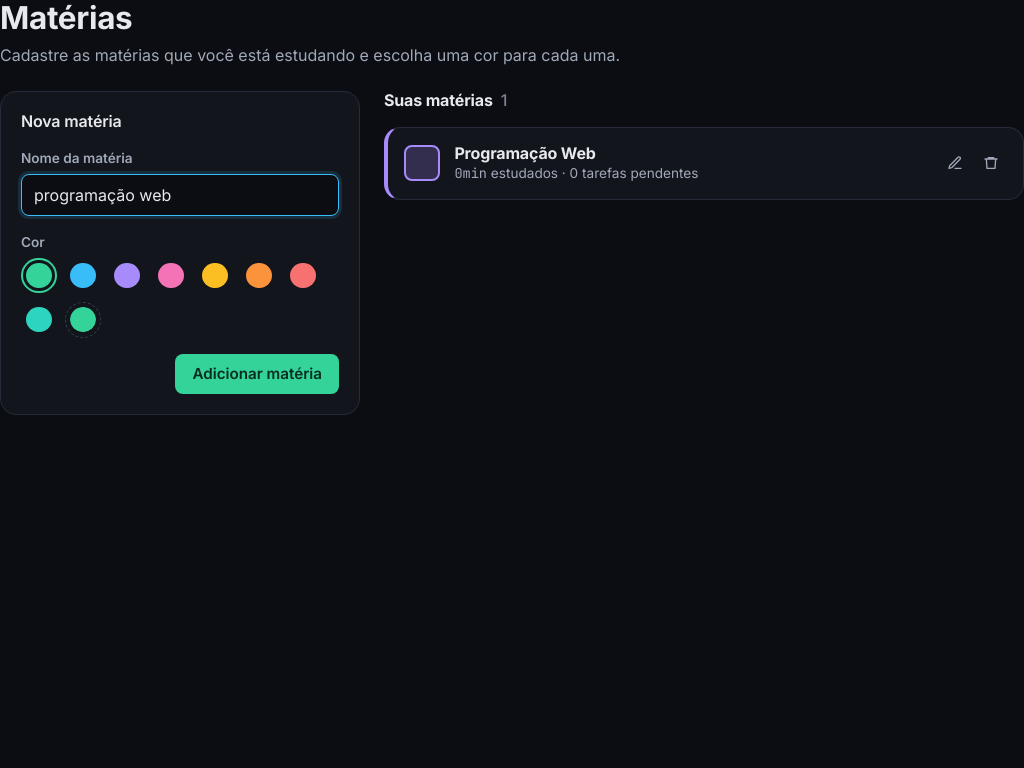
Test case: SubjectsView (CRUD de matérias) › cria, edita e exclui uma matéria salvando no localStorage
The width and height of the screenshot is (1024, 768).
Earlier steps of the test are not shown.
Click the button "Adicionar matéria" at (257, 374), box [175,354,339,394]
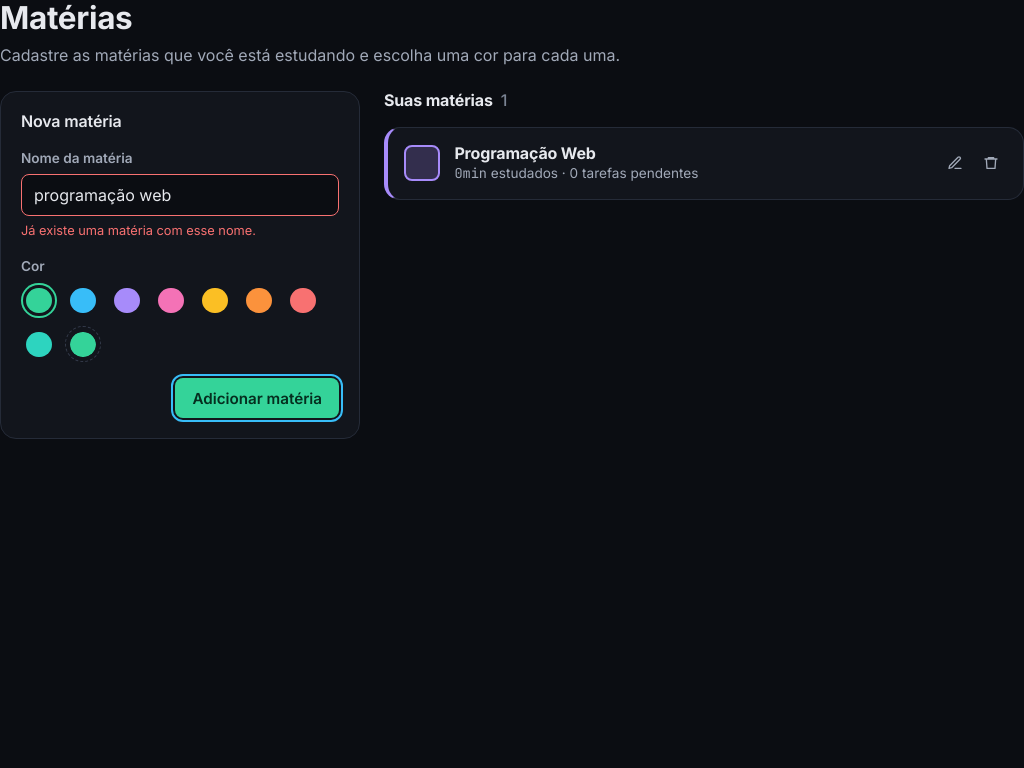
Expected: the message reads "Já existe uma matéria com esse nome.", [21,223,256,238]
Clear the field labelled "Nome da matéria" at (180, 194), box [21,174,339,216]
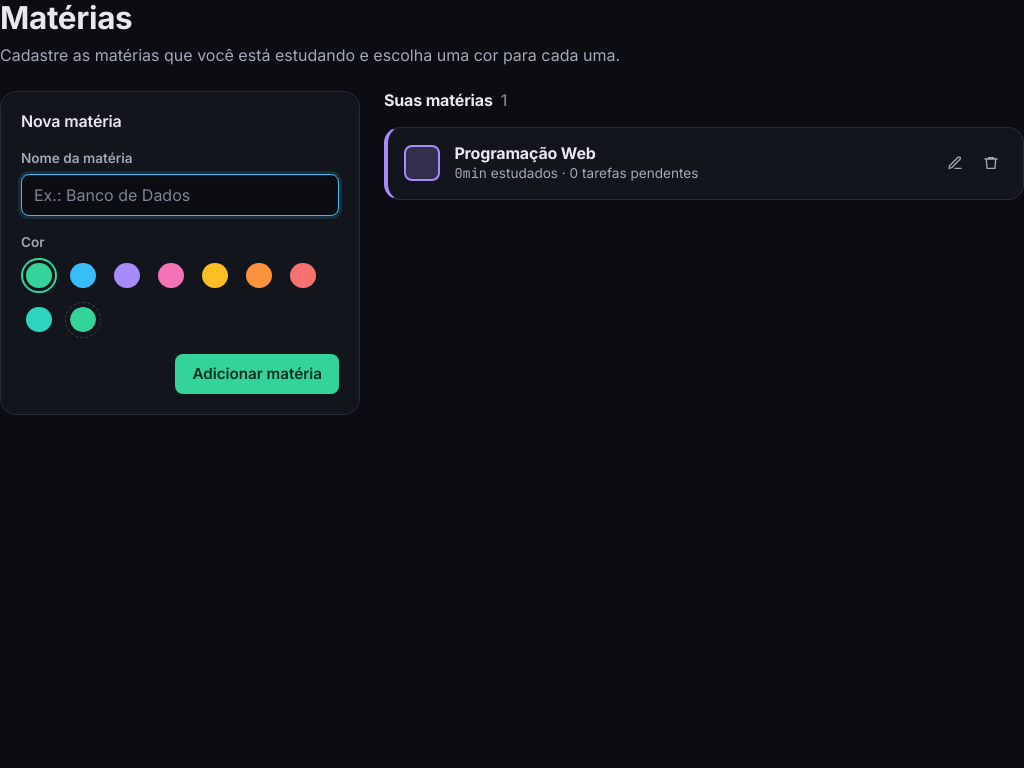
Click the button named "Editar Programação Web" at (955, 163), box [939,147,971,179]
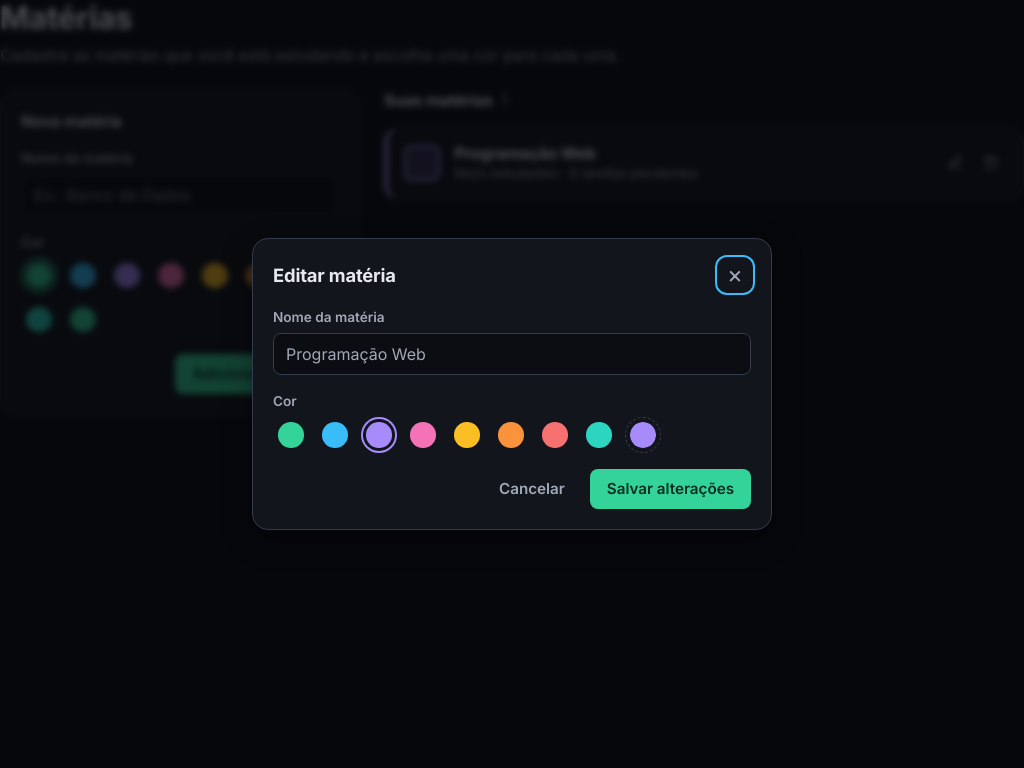
Replace the text in the field labelled "Nome da matéria" with "Front-end" at (512, 354), box [273,333,751,375]
Click the button "Salvar alterações" at (670, 489), box [590,469,751,509]
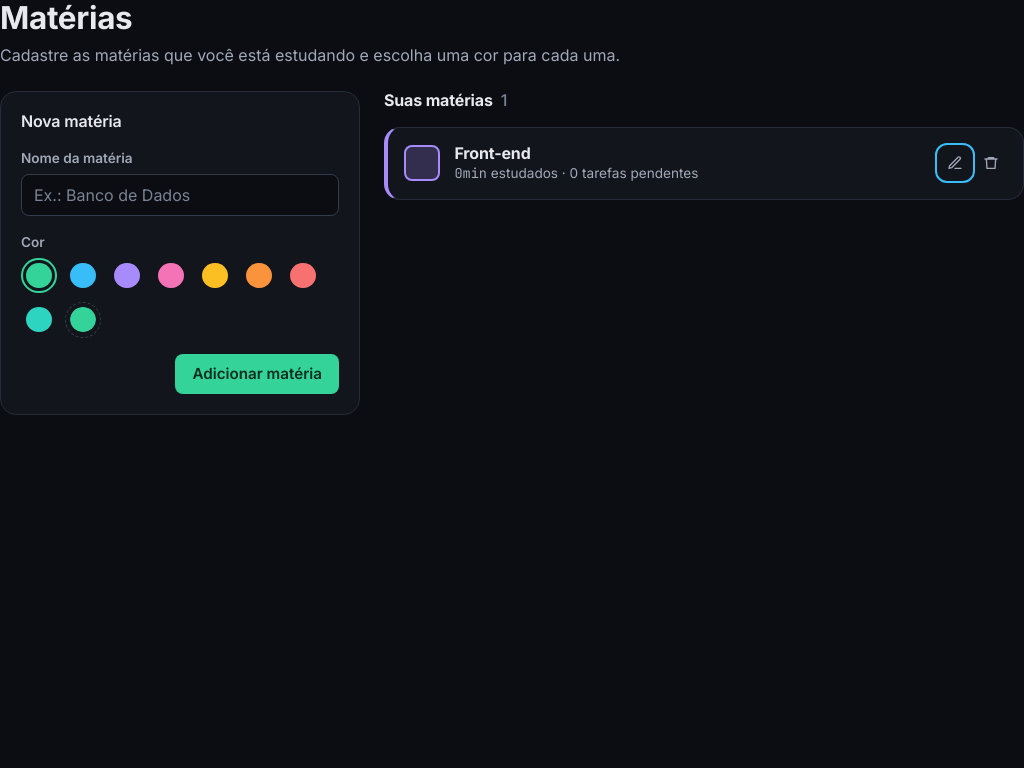
Expected: the heading "Front-end" is shown, [454,143,531,163]
Click the button named "Excluir Front-end" at (991, 163), box [975,147,1007,179]
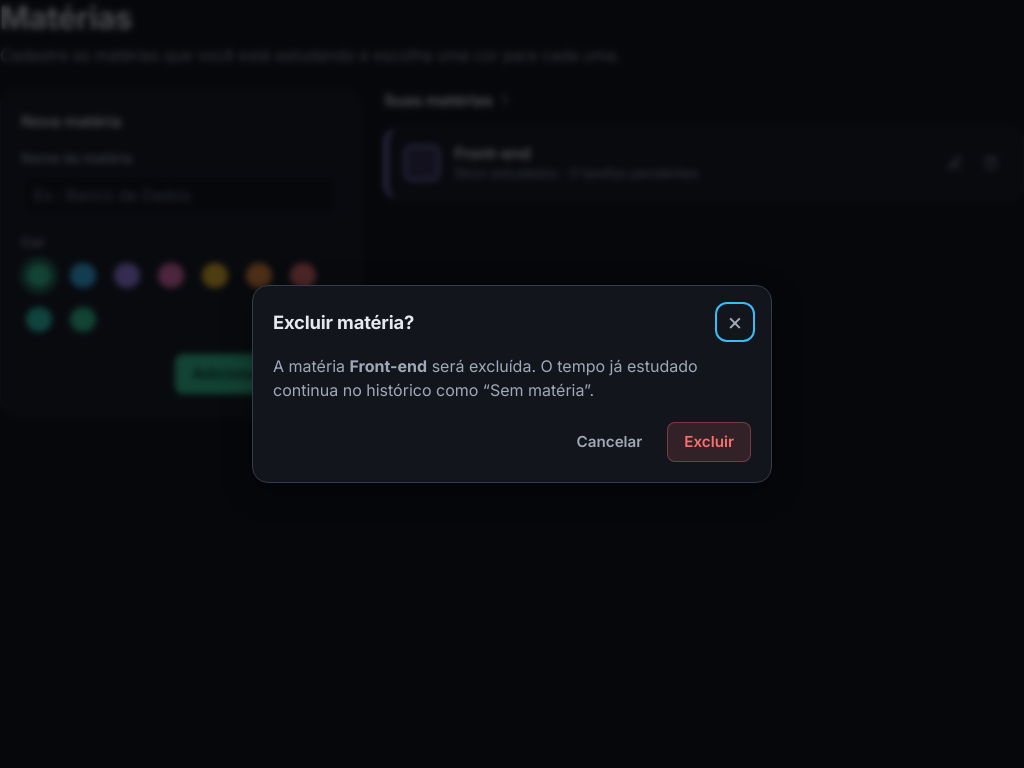
Click the button "Excluir" at (709, 442), box [667,422,751,462]
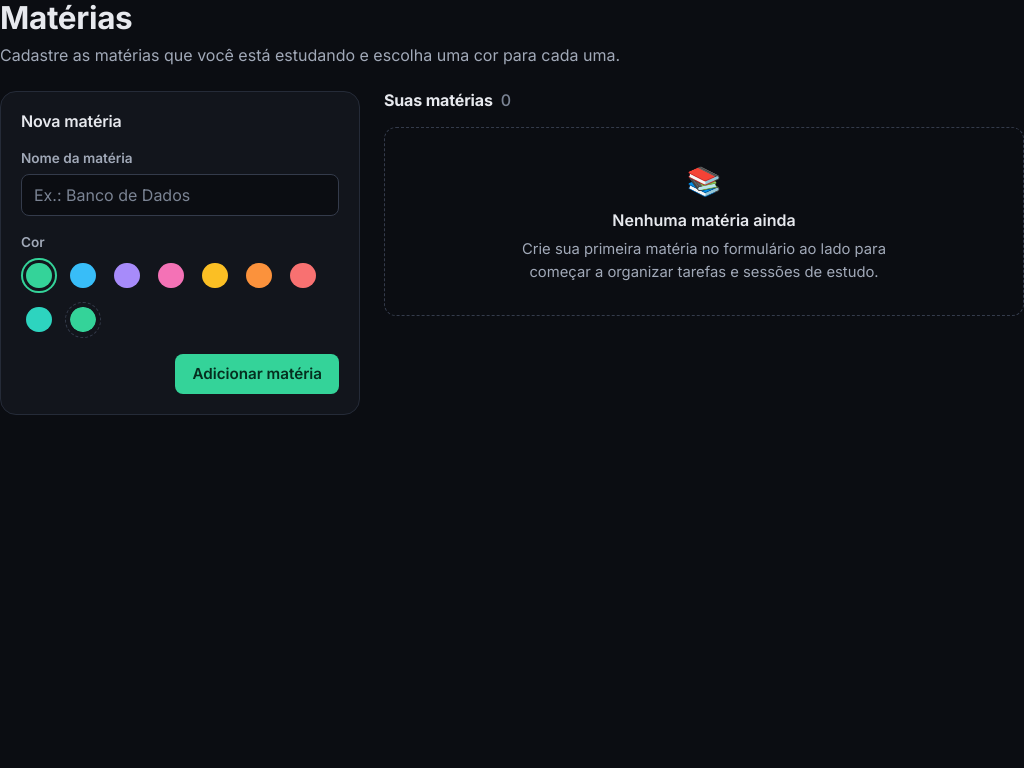
Expected: the text "Nenhuma matéria ainda" is shown, [612,208,796,232]
